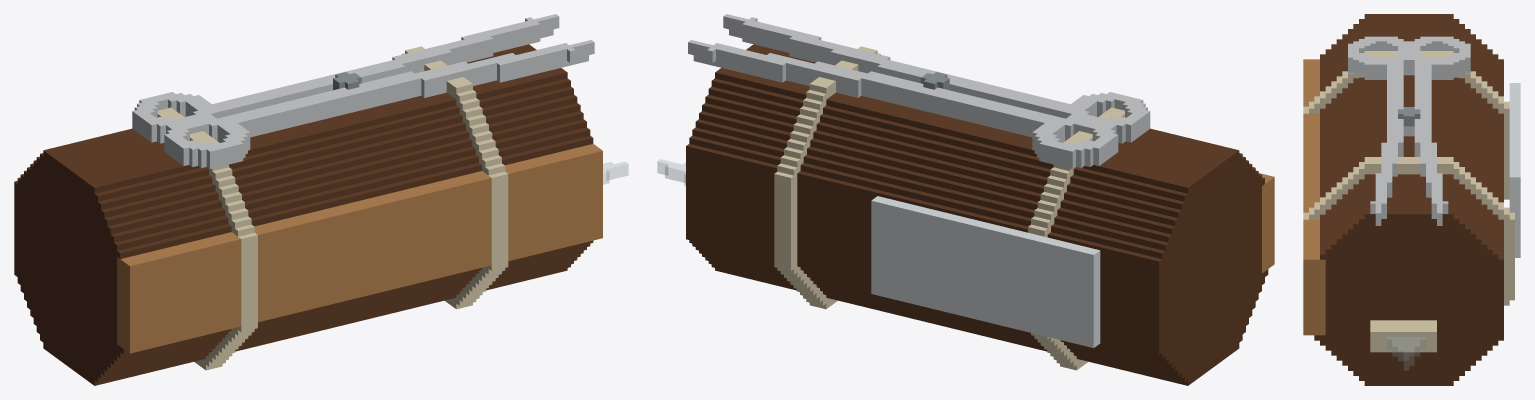
Rendered from survivor_hairtrimmer.glb.
3 views of the same model, side by side, from view 1: azimuth 30°, elevation 25°; view 2: azimuth 150°, elevation 25°; view 3: azimuth 270°, elevation 25° (orthographic). The views are drawn at different scales.
Parts seen in each view (by area): view 1: survivor_hairtrimmer:compound; view 2: survivor_hairtrimmer:compound; view 3: survivor_hairtrimmer:compound.
Part boxes in pixels (x1,y1,x2,y2): survivor_hairtrimmer:compound: (14,14,628,385); survivor_hairtrimmer:compound: (657,14,1274,385); survivor_hairtrimmer:compound: (1303,14,1520,385).
Size of the model in its own units: 0.2 by 0.08 by 0.078.
